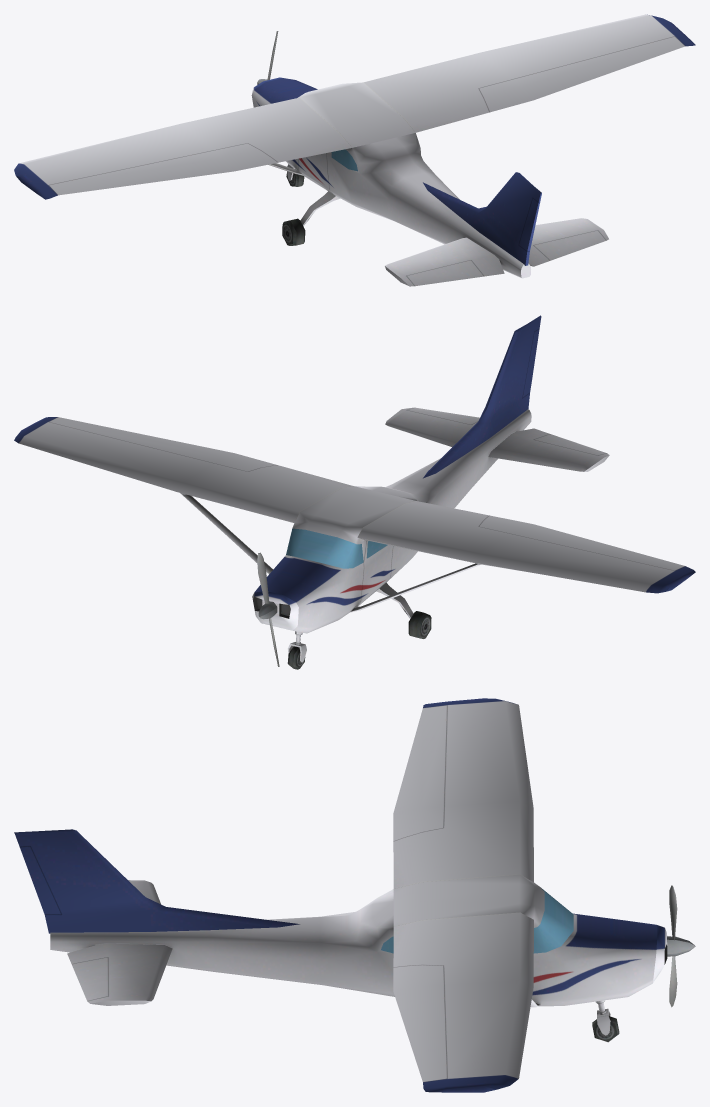
3 views of the same model, one above another, from view 1: azimuth 30°, elevation 25°; view 2: azimuth 150°, elevation 25°; view 3: azimuth 270°, elevation 25° (orthographic). The views are drawn at different scales.
Parts seen in each view (by area): view 1: Plane.017; view 2: Plane.017, awionetka.004; view 3: Plane.017, awionetka.004.
Part boxes in pixels (x1,y1,x2,y2): Plane.017: [14, 14, 695, 286]; Plane.017: [14, 315, 695, 669]; awionetka.004: [257, 552, 279, 666]; Plane.017: [14, 698, 667, 1092]; awionetka.004: [667, 885, 695, 1007].
Bounding box in the file's own units: 2.37 × 0.6115 × 1.78.
1 material, 1 textured.
